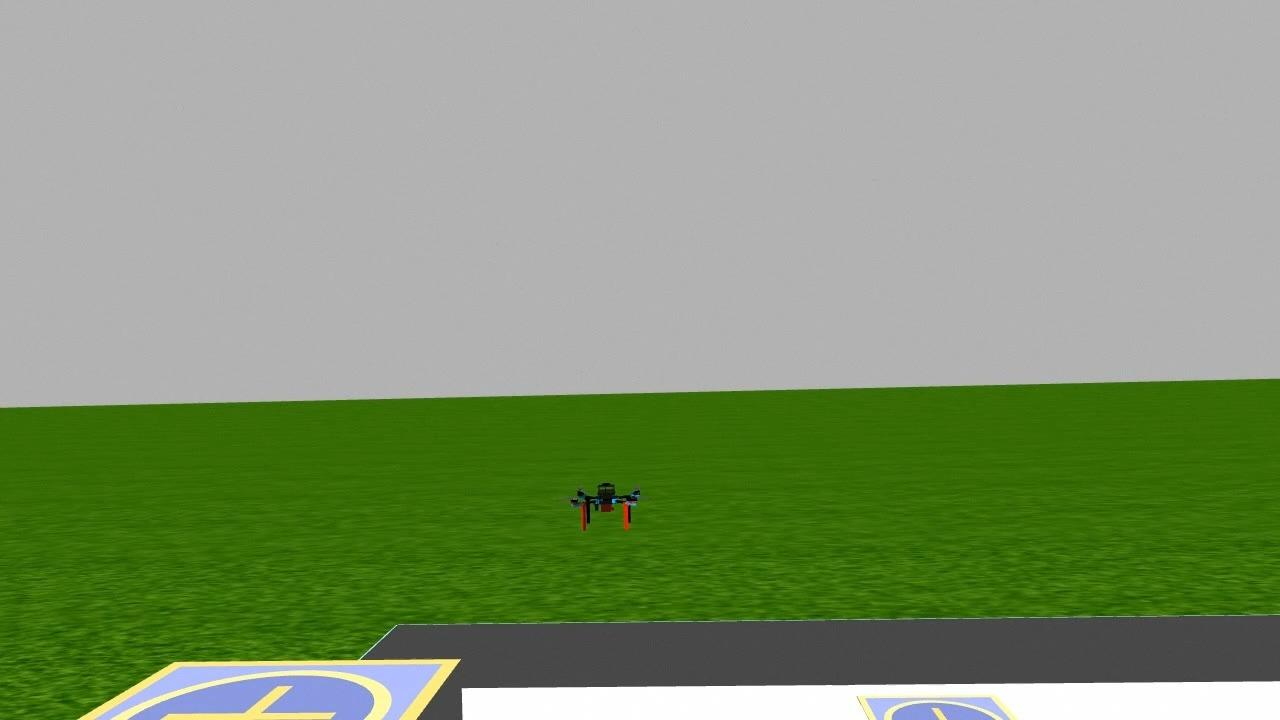UAV: (556, 465, 651, 546)
